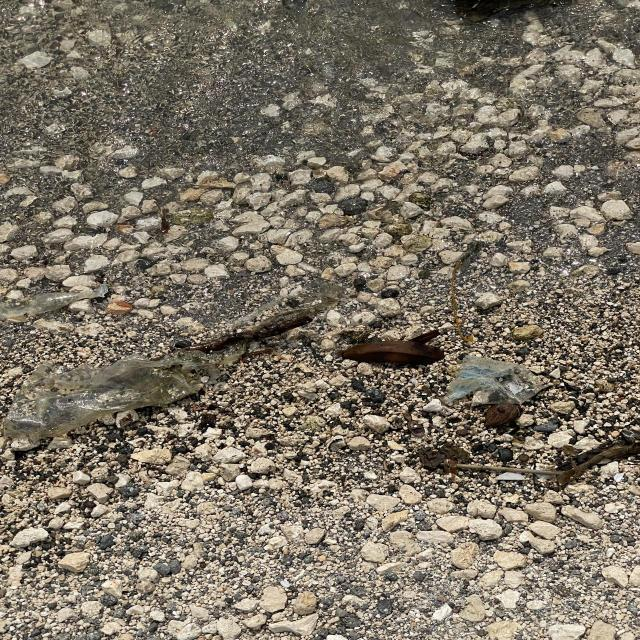plastic_waste: (447, 355, 550, 406)
